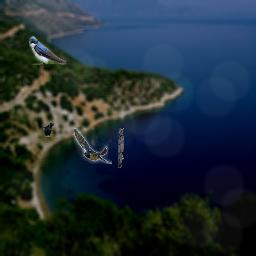Crow: (118, 128, 124, 168), (43, 123, 54, 137)
Swallow: (74, 128, 112, 164), (29, 36, 66, 65)
